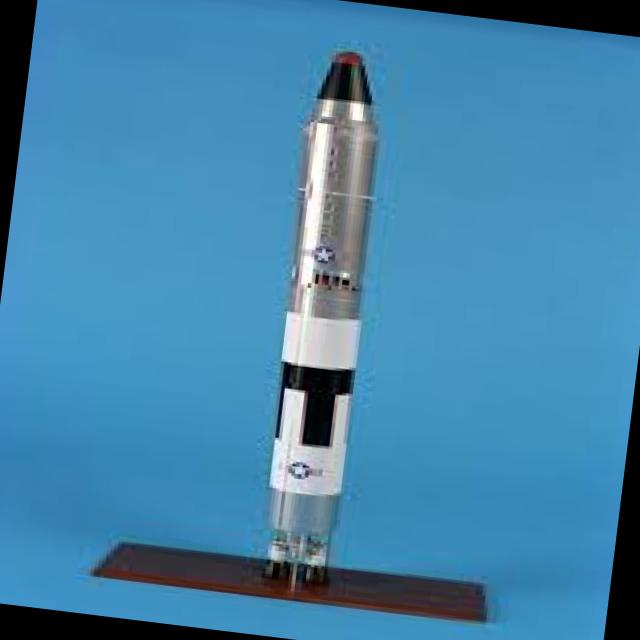rocket: (244, 45, 411, 595)
